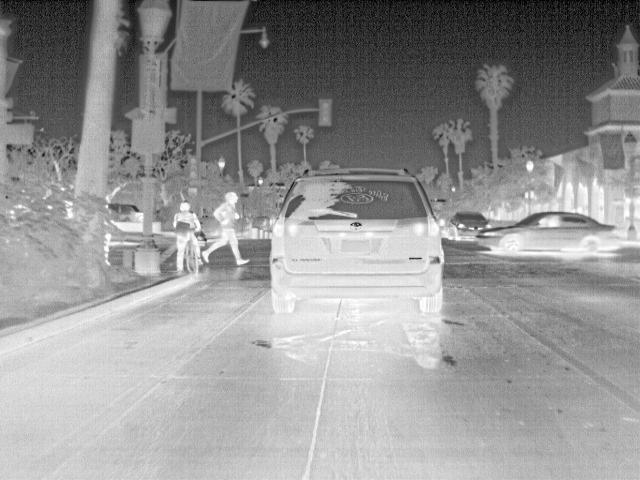car: (268, 164, 448, 317), (476, 209, 624, 261), (444, 210, 492, 243), (106, 199, 146, 221)
person: (201, 188, 251, 266), (172, 199, 202, 273)
